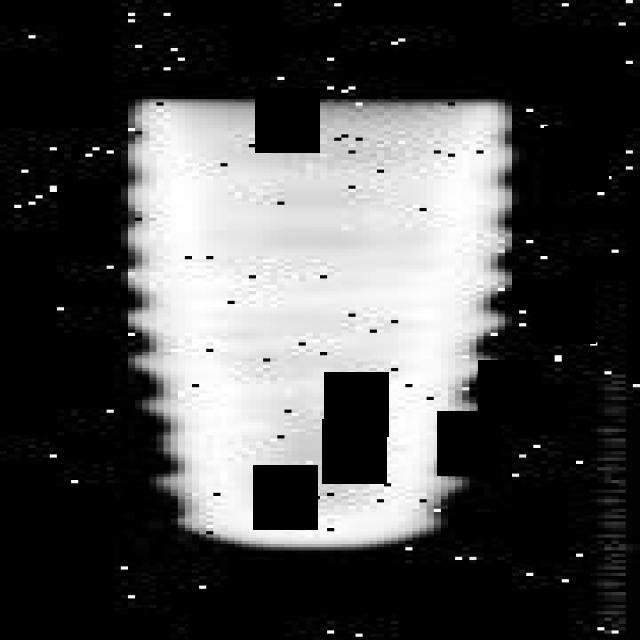Titan Implant Implant: (124, 99, 512, 555)
